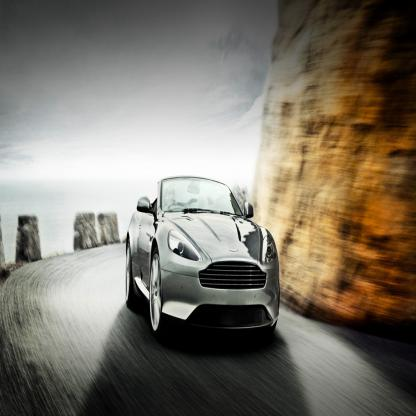Vehicle: (122, 173, 282, 354)
